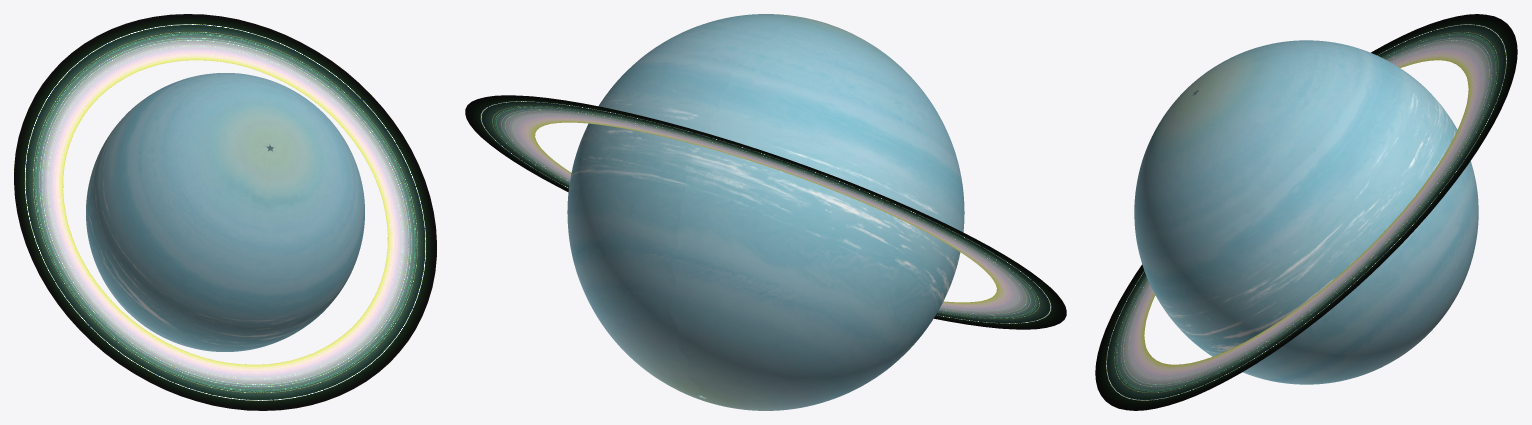
Rendered from Uranus_ring.fbx.
3 renders of one model, left to right at view 1: azimuth 30°, elevation 25°; view 2: azimuth 150°, elevation 25°; view 3: azimuth 270°, elevation 25°, orthographic. The views are drawn at different scales.
Parts seen in each view (by area): view 1: 169, 180; view 2: 169, 180; view 3: 169, 180.
Part boxes in pixels (left/top/right/bottom): 169: left=86, top=73, right=364, bottom=351; 180: left=14, top=14, right=436, bottom=410; 169: left=567, top=14, right=964, bottom=410; 180: left=465, top=95, right=1066, bottom=329; 169: left=1134, top=40, right=1478, bottom=384; 180: left=1095, top=14, right=1517, bottom=410.
Bounding box in the file's own units: 5.11 × 3.29 × 3.92.
